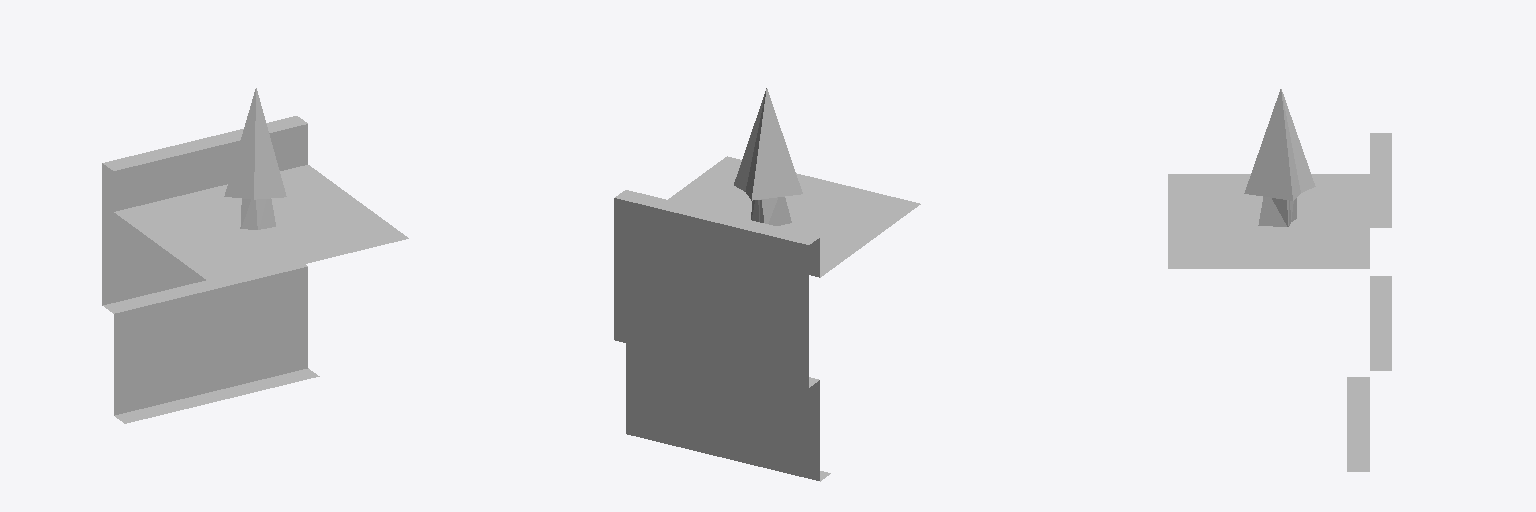
File: Straight_Edge_Wall_Roof_Outer_Corner.obj
The picture shows the model from 3 angles: view 1: azimuth 30°, elevation 25°; view 2: azimuth 150°, elevation 25°; view 3: azimuth 270°, elevation 25°; orthographic projection.
Parts seen in each view (by area): view 1: Straight_Edge_Wall_Roof_Outer_Corner; view 2: Straight_Edge_Wall_Roof_Outer_Corner; view 3: Straight_Edge_Wall_Roof_Outer_Corner.
Part boxes in pixels (bbox=[...]): Straight_Edge_Wall_Roof_Outer_Corner: bbox=[102, 88, 408, 423]; Straight_Edge_Wall_Roof_Outer_Corner: bbox=[614, 88, 920, 481]; Straight_Edge_Wall_Roof_Outer_Corner: bbox=[1168, 89, 1391, 471].
Size of the model in its own units: 1 by 1.66 by 1.